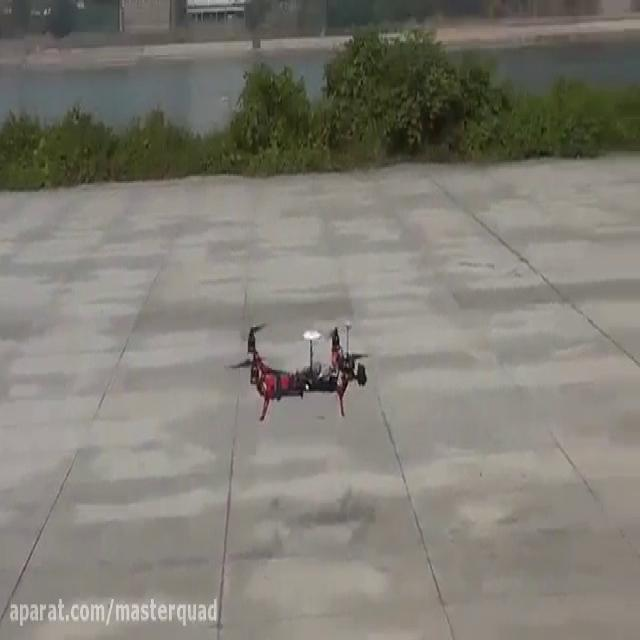drone: (222, 313, 372, 425)
